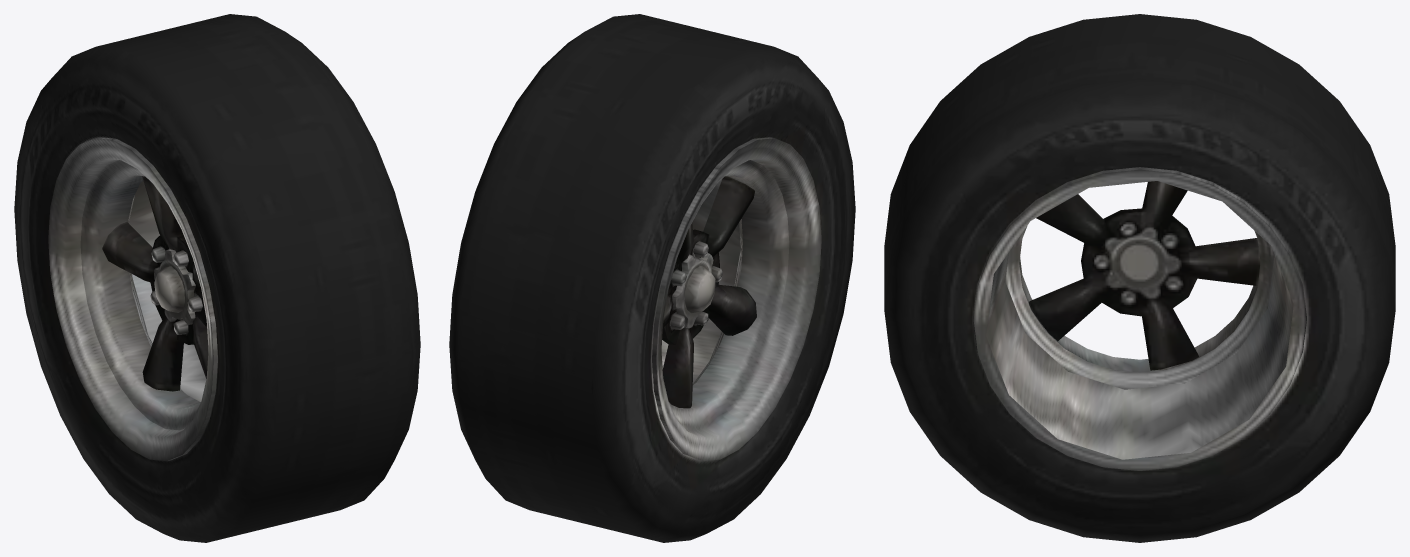
The model's file is car-wheel.glb.
The picture shows the model from 3 angles, left to right: view 1: azimuth 30°, elevation 25°; view 2: azimuth 150°, elevation 25°; view 3: azimuth 270°, elevation 25°; orthographic projection.
Visible parts, largest first — view 1: Wheel_FR; view 2: Wheel_FR; view 3: Wheel_FR.
Part boxes in pixels (x1,y1,x2,y2): Wheel_FR: (14,14,420,542); Wheel_FR: (449,14,855,542); Wheel_FR: (884,14,1395,542).
Bounding box in the file's own units: 0.2542 × 0.6422 × 0.6422.
Materials: 1 (1 with a texture image).
